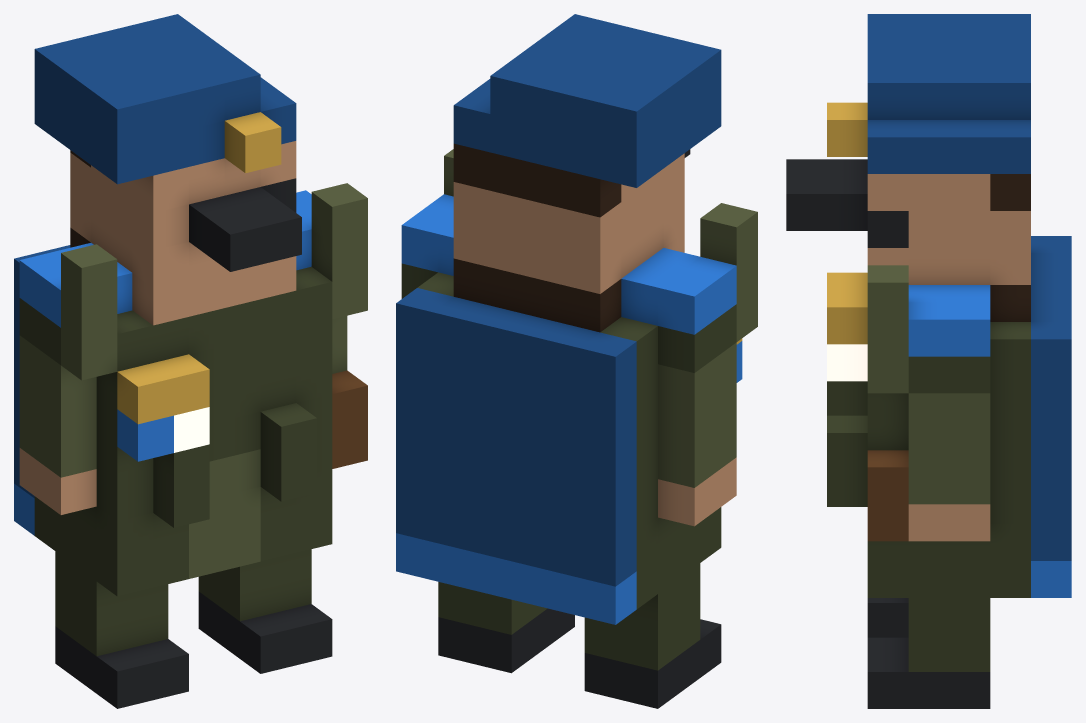
The model's file is cm_hero_1.glb.
3 renders of one model, left to right at view 1: azimuth 30°, elevation 25°; view 2: azimuth 150°, elevation 25°; view 3: azimuth 270°, elevation 25°, orthographic. The views are drawn at different scales.
Visible parts, largest first — view 1: cm_hero_1_body; view 2: cm_hero_1_body; view 3: cm_hero_1_body.
Part boxes in pixels (x1,y1,x2,y2): cm_hero_1_body: (14,14,367,708); cm_hero_1_body: (396,14,757,708); cm_hero_1_body: (786,14,1071,708).
Size of the model in its own units: 0.5 by 1 by 0.4375.
Materials: 1 (1 with a texture image).
